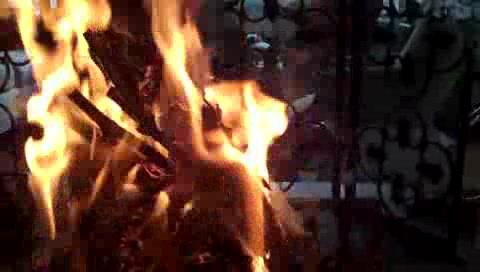fire: (12, 2, 278, 260)
